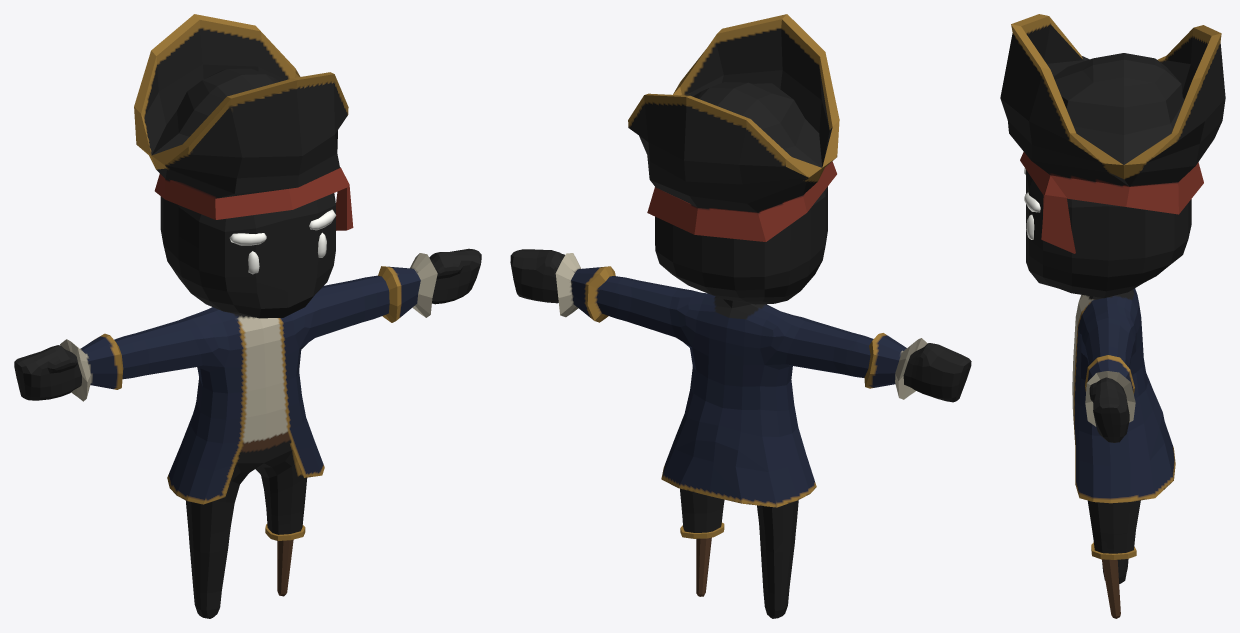
File: Pirate_Male.fbx
The picture shows the model from 3 angles, left to right: view 1: azimuth 30°, elevation 25°; view 2: azimuth 150°, elevation 25°; view 3: azimuth 270°, elevation 25°; orthographic projection. The views are drawn at different scales.
Visible parts, largest first — view 1: Body; view 2: Body; view 3: Body.
Part boxes in pixels (x1,y1,x2,y2): Body: (14,14,481,618); Body: (510,14,971,618); Body: (1000,14,1225,618).
Bounding box in the file's own units: 324 × 379 × 134.
1 material, 1 textured.
